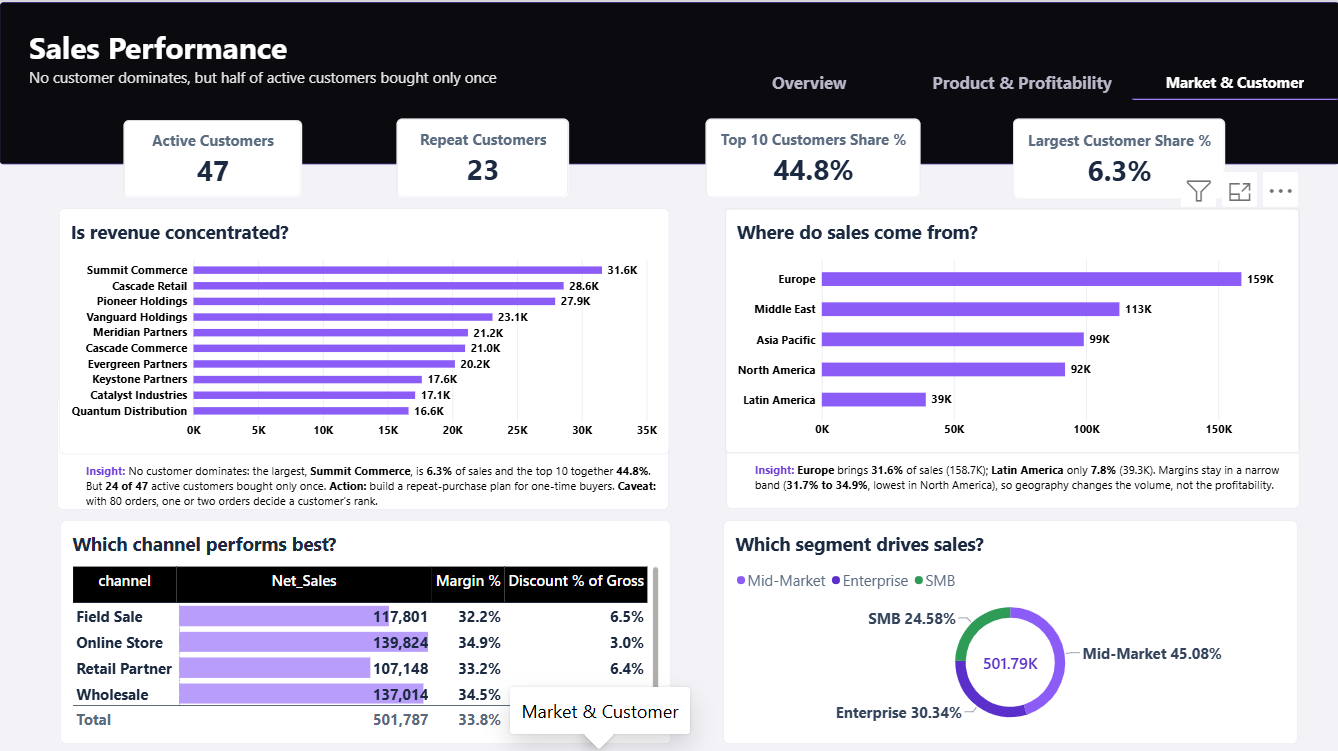

The dashboard page shown, as its layout file describes it:
{"tool":"powerbi","page":{"name":"Market & Customer","canvas":[1920,1080],"ordinal":2},"visuals":[{"type":"textbox","box":[84,570,875,160.4],"z":0},{"type":"textbox","box":[55,65,1424.5,107.5],"z":1000},{"type":"shape","box":[0,1.6,1921.2,234.6],"z":2000},{"type":"cardVisual","fields":{"Data":["_Measure.Top 10 Customers Share %"]},"box":[1012,170,308,114],"z":3000},{"type":"cardVisual","fields":{"Data":["_Measure.total_active_customer"]},"box":[178.3,171.9,255.7,111.7],"z":4000},{"type":"cardVisual","fields":{"Data":["_Measure.Repeat Customers"]},"box":[569.4,169.7,247.1,113.9],"z":5000},{"type":"clusteredBarChart","title":"Is revenue concentrated?","fields":{"Category":["dim_customer.customer_name"],"Y":["Measure.Net_Sales"]},"box":[86,298,874,352],"z":6000},{"type":"pageNavigator","box":[1012.5,92.9,908.9,51.8],"z":7000},{"type":"cardVisual","fields":{"Data":["_Measure.Largest Customer Share %"]},"box":[1452.1,168.8,304.2,116.7],"z":8000},{"type":"textbox","box":[1042,568,820.8,161.1],"z":9000},{"type":"clusteredBarChart","title":"Where do sales come from?","fields":{"Category":["dim_customer.region"],"Y":["Measure.Net_Sales"]},"box":[1040,298,822,350],"z":10000},{"type":"donutChart","title":"Which segment drives sales?","fields":{"Category":["dim_customer.segment"],"Y":["_Measure.Net_Sales"]},"box":[1038,746,822,320],"z":11000},{"type":"tableEx","title":"Which channel performs best?","fields":{"Values":["dim_order_flags.channel","Measure.Net_Sales","_Measure.Margin %","_Measure.Discount % of Gross"]},"box":[88,746,874,320],"z":12000},{"type":"textbox","box":[42,38,1424.5,107.5],"z":13000}]}

Visuals, with their boxes in screenshot pixels (x1, y1, x2, y2), scaled from the page's 1920x1080 canvas onto the 1338x751 screenshot:
textbox: [59, 396, 668, 508]
textbox: [38, 45, 1031, 120]
shape: [0, 1, 1337, 164]
cardVisual - _Measure.Top 10 Customers Share %: [705, 118, 920, 197]
cardVisual - _Measure.total_active_customer: [124, 120, 302, 197]
cardVisual - _Measure.Repeat Customers: [397, 118, 569, 197]
"Is revenue concentrated?" clusteredBarChart: [60, 207, 669, 452]
pageNavigator: [706, 65, 1337, 101]
cardVisual - _Measure.Largest Customer Share %: [1012, 117, 1224, 199]
textbox: [726, 395, 1298, 507]
"Where do sales come from?" clusteredBarChart: [725, 207, 1298, 451]
"Which segment drives sales?" donutChart: [723, 519, 1296, 741]
"Which channel performs best?" tableEx: [61, 519, 670, 741]
textbox: [29, 26, 1022, 101]
